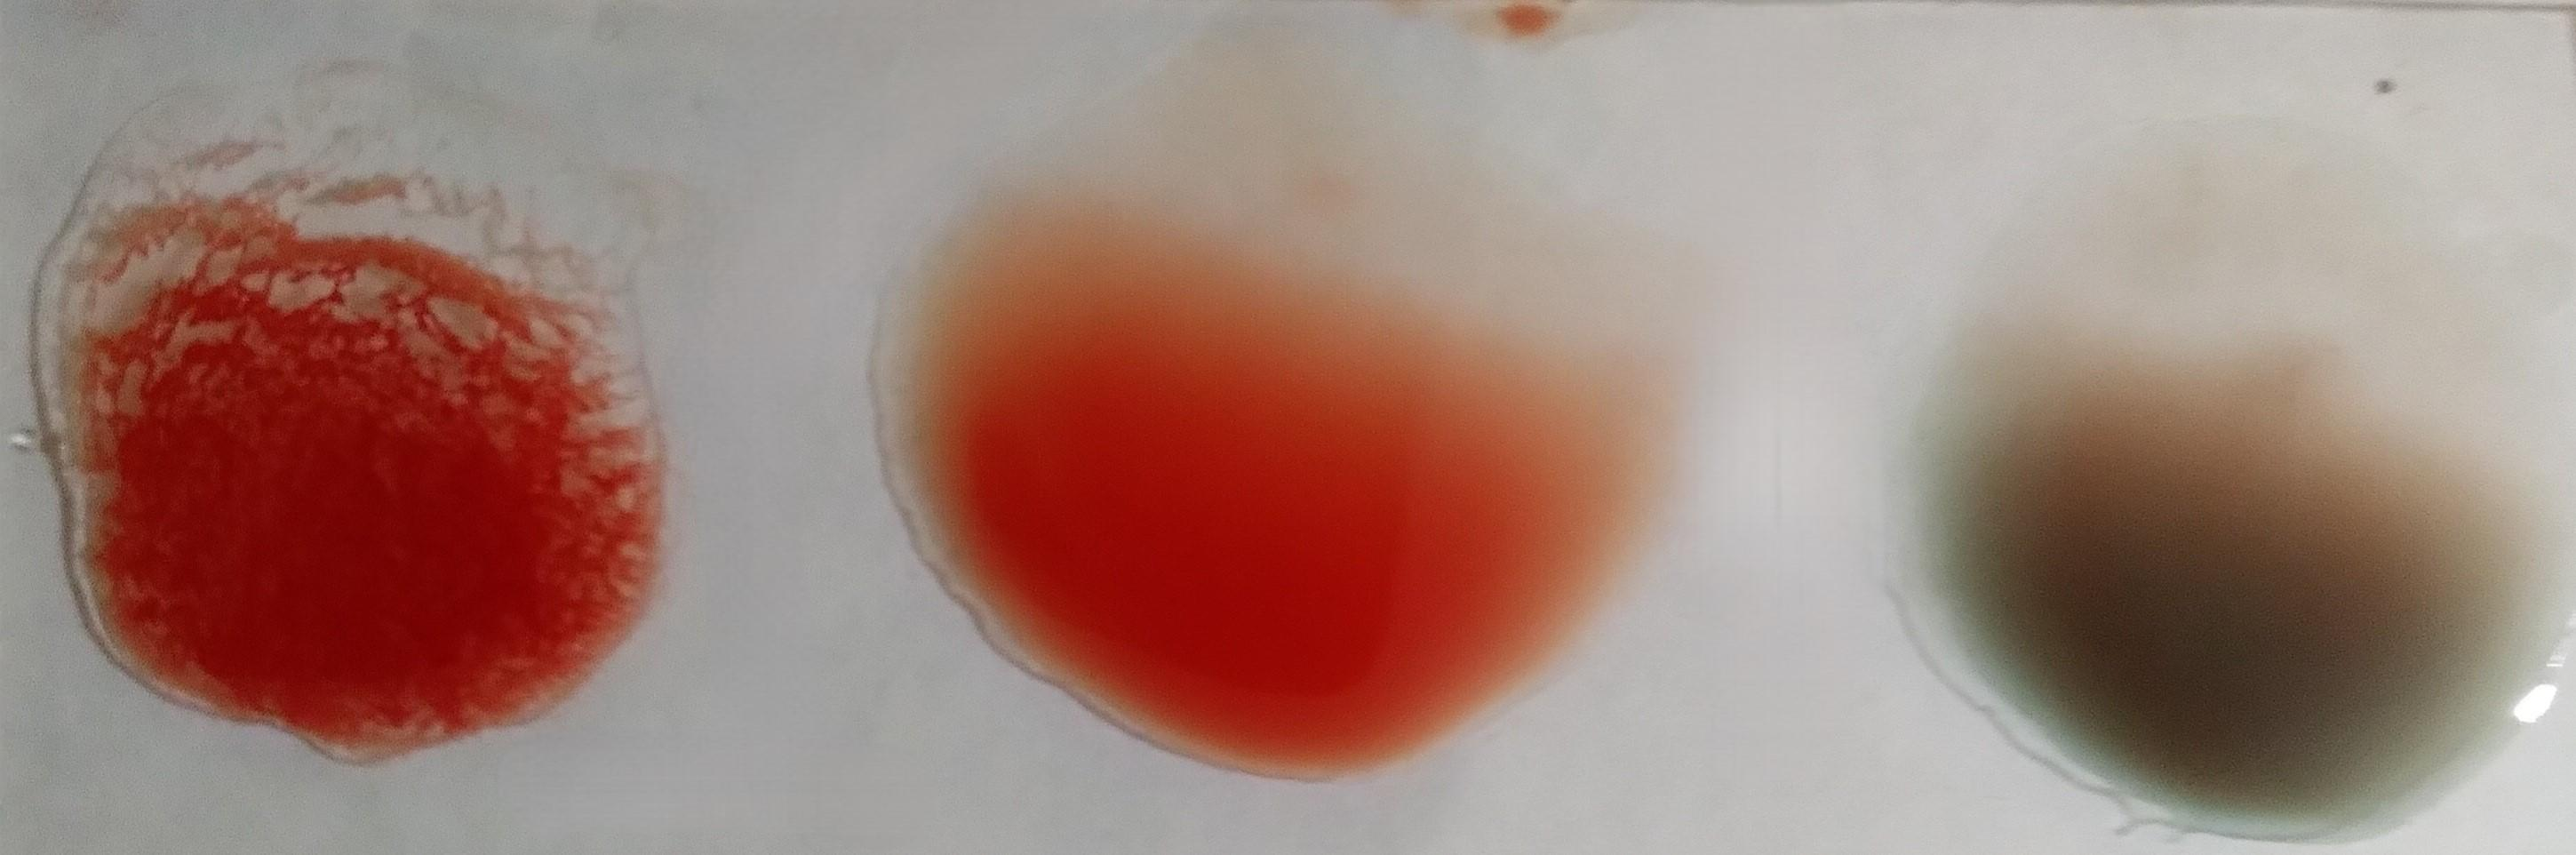D: (36, 87, 672, 776)
